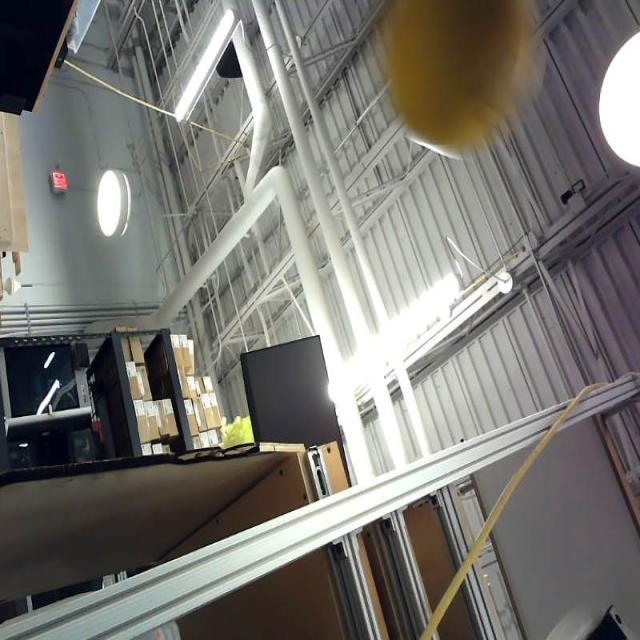Fuel: (394, 0, 524, 145)
